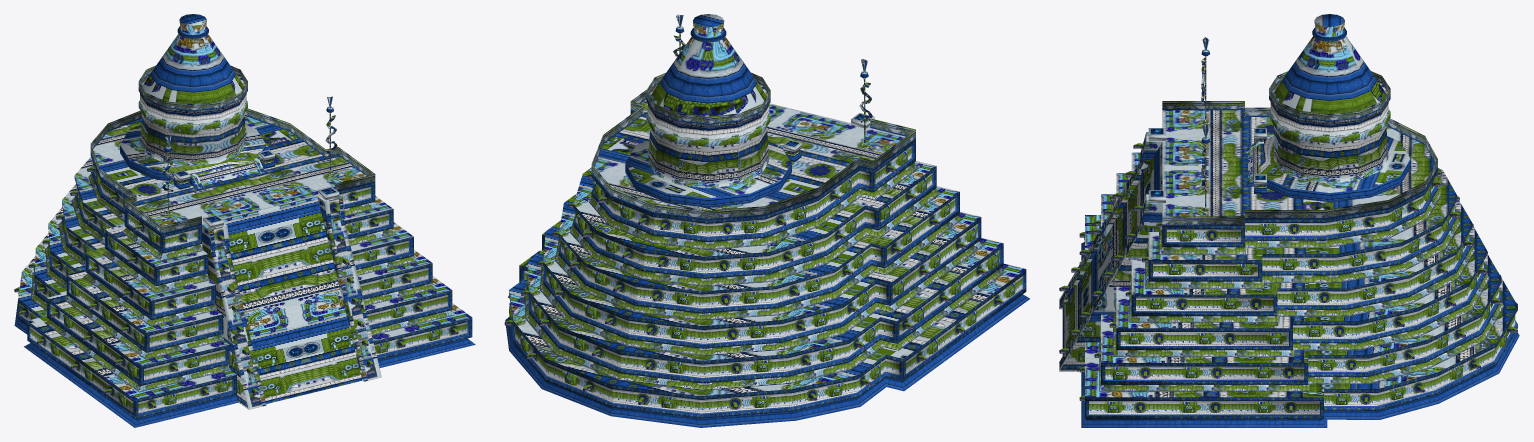
The model's file is wonder_quetzalcoatl_base.glb.
The picture shows the model from 3 angles, left to right: view 1: azimuth 30°, elevation 25°; view 2: azimuth 150°, elevation 25°; view 3: azimuth 270°, elevation 25°; orthographic projection. The views are drawn at different scales.
Visible parts, largest first — view 1: MeshRoot; view 2: MeshRoot; view 3: MeshRoot.
Part boxes in pixels (x1,y1,x2,y2): MeshRoot: [14, 14, 475, 427]; MeshRoot: [504, 14, 1029, 427]; MeshRoot: [1059, 14, 1519, 427].
Size of the model in its own units: 16.25 by 12.75 by 16.88.
1 material, 1 textured.
